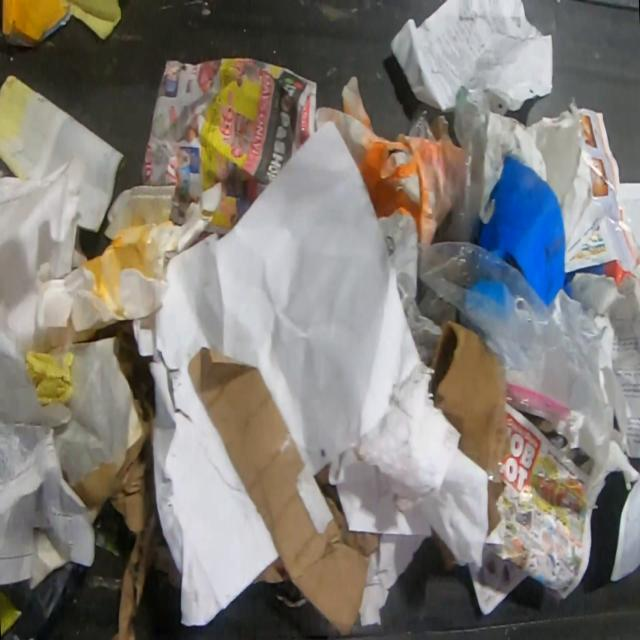cardboard: (187, 345, 380, 636), (72, 320, 183, 640)
rigid_plastic: (38, 183, 222, 329)
soft_plastic: (416, 239, 591, 419), (439, 84, 488, 246), (405, 100, 454, 144)
